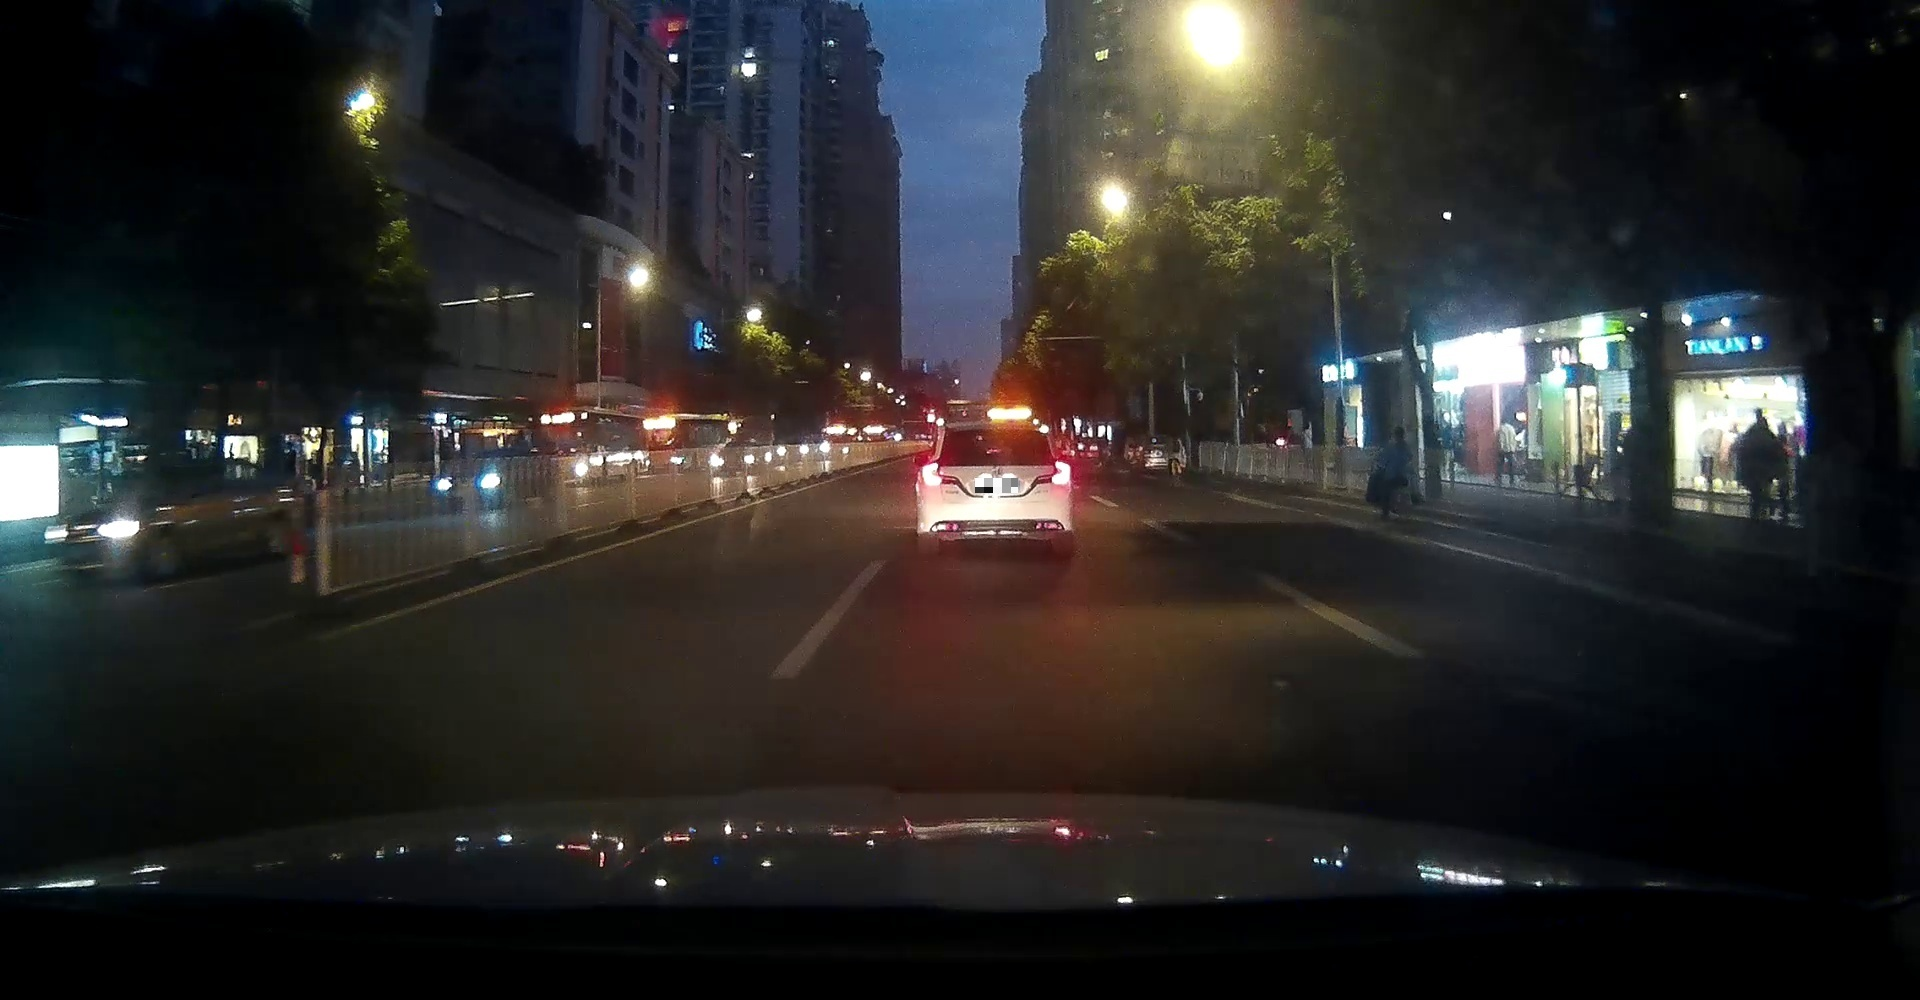L_light: (919, 461, 941, 487)
R_light: (1050, 461, 1070, 485)
T_light: (985, 424, 1010, 430)
night-no: (916, 420, 1076, 557)
plate_1: (975, 478, 1018, 492)
